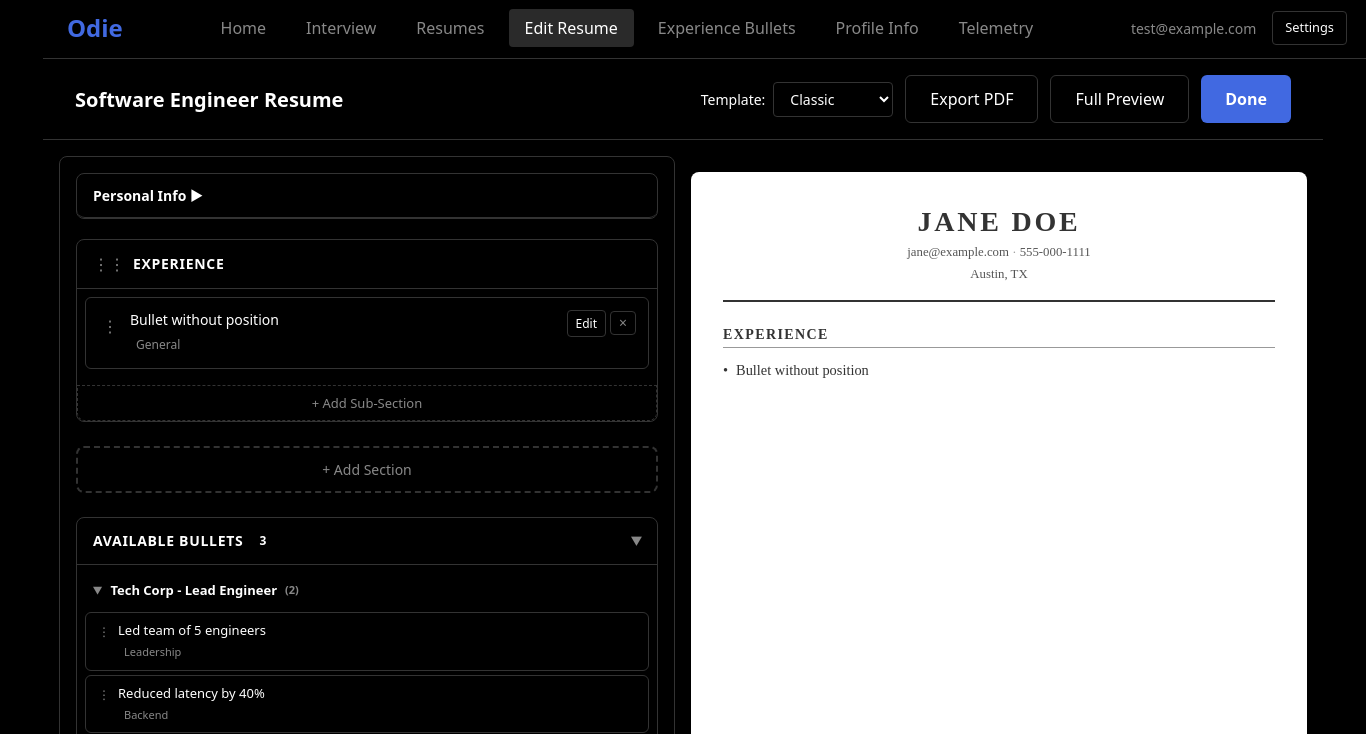
Test case: ResumeBuilderPage › inline editor with null position bullet › should open inline editor for a bullet with no position
Click the button with test id "edit-bullet-bullet-no-pos": coordinates (586, 324) x1=566 y1=310 x2=606 y2=337
(page scrolled)
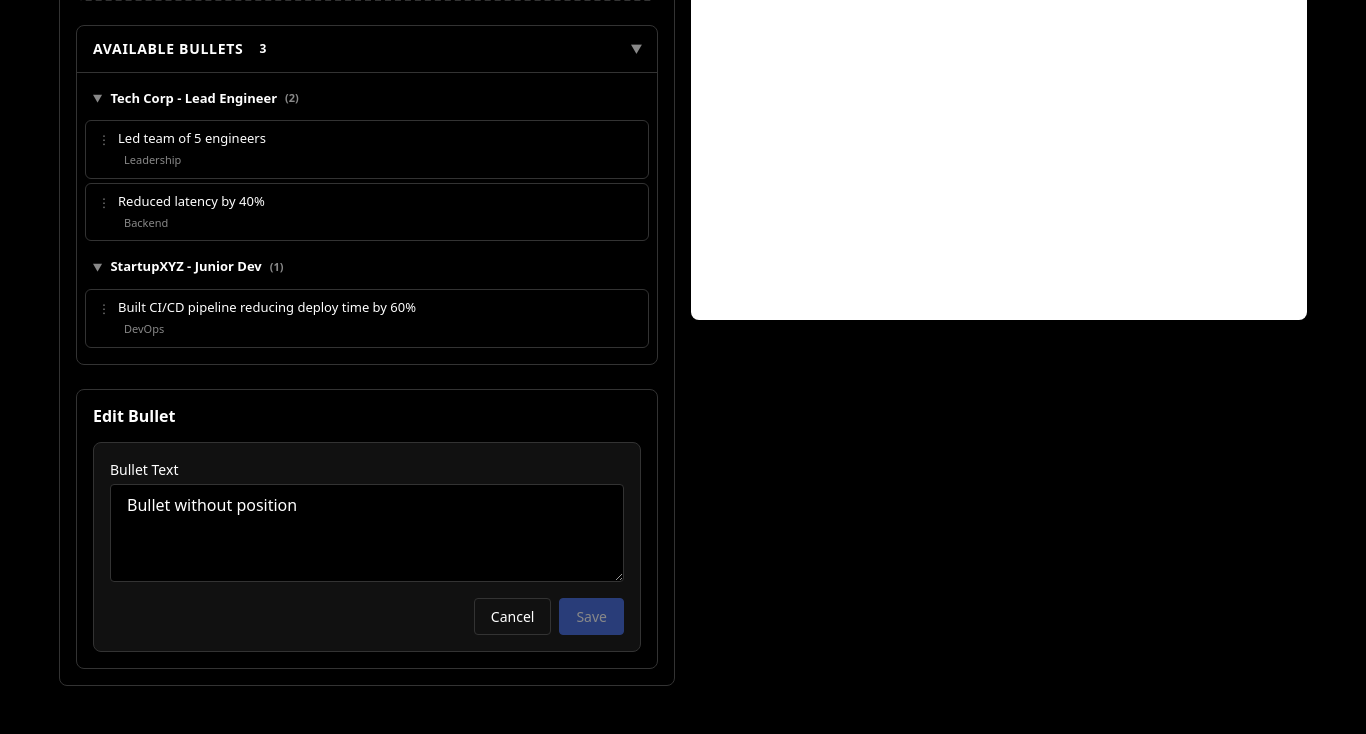
Now the element with test id "inline-editor" is shown, box x1=76 y1=389 x2=658 y2=669
